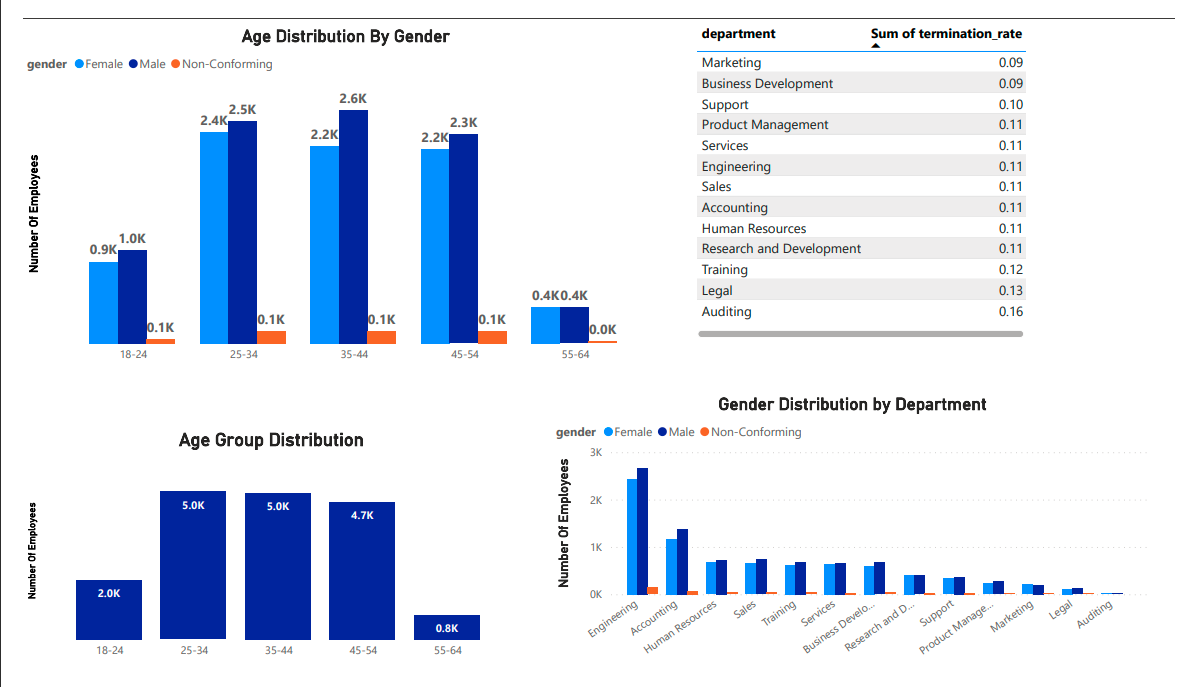

What the dashboard file says about the page in this screenshot:
{"tool":"powerbi","page":{"name":"Page 2","canvas":[1280,720],"ordinal":1},"visuals":[{"type":"columnChart","title":"Age Group Distribution","fields":{"Category":["age_group.age_group"],"Y":["Sum(age_group.count)"]},"box":[0,455.8,552.7,264.2],"z":0},{"type":"clusteredColumnChart","title":"Age Distribution By Gender","fields":{"Category":["age_group_gender.age_group"],"Y":["Sum(age_group_gender.count)"],"Series":["age_group_gender.gender"]},"box":[0,8.1,717.7,383.1],"z":1000},{"type":"tableEx","fields":{"Values":["turnover_rate.department","Sum(turnover_rate.termination_rate)"]},"box":[744.2,0,376.2,360],"z":2000},{"type":"clusteredColumnChart","title":"Gender Distribution by Department","fields":{"Category":["gender_departments.department"],"Y":["Sum(gender_departments.count)"],"Series":["gender_departments.gender"]},"box":[588.5,416.5,668.1,303.5],"z":3000}]}

Visuals, with their boxes in screenshot pixels (x1, y1, x2, y2), scaled from the page's 1280x720 canvas onto the 1195x687 screenshot:
"Age Group Distribution" columnChart: {"left": 0, "top": 435, "right": 516, "bottom": 686}
"Age Distribution By Gender" clusteredColumnChart: {"left": 0, "top": 8, "right": 670, "bottom": 373}
tableEx - turnover_rate.department x Sum(turnover_rate.termination_rate): {"left": 695, "top": 0, "right": 1046, "bottom": 344}
"Gender Distribution by Department" clusteredColumnChart: {"left": 549, "top": 397, "right": 1173, "bottom": 686}
